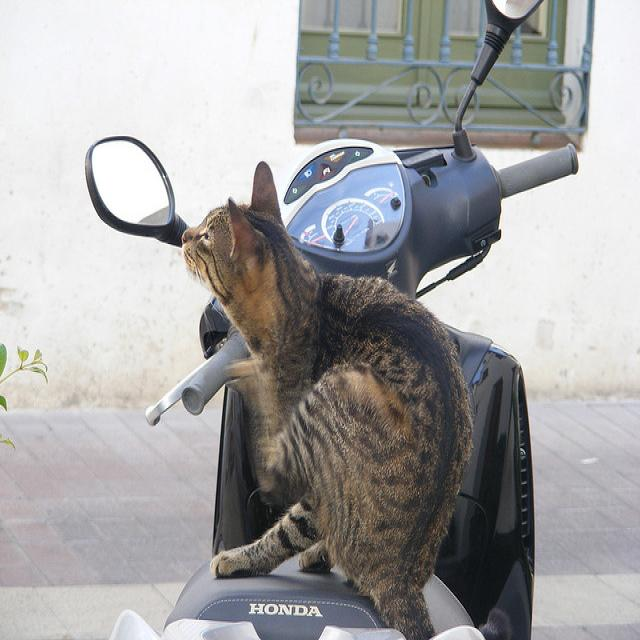motor: (84, 6, 588, 634)
